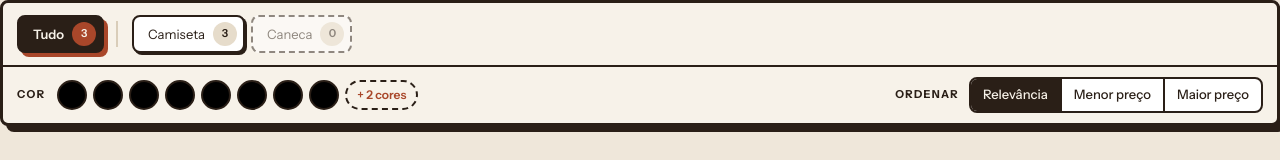
Test: FilterPanel › mostra 8 cores e guarda o resto atrás de "+ N cores"
The width and height of the screenshot is (1280, 160).
Click the button with test id "more-colors".
click(382, 95)  # box 345,80 -> 418,110
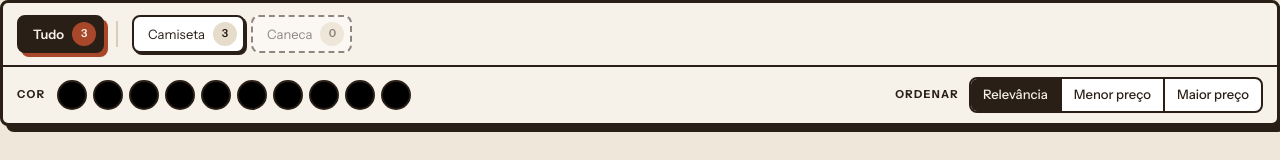
Expected: the button with test id "more-colors" is gone
